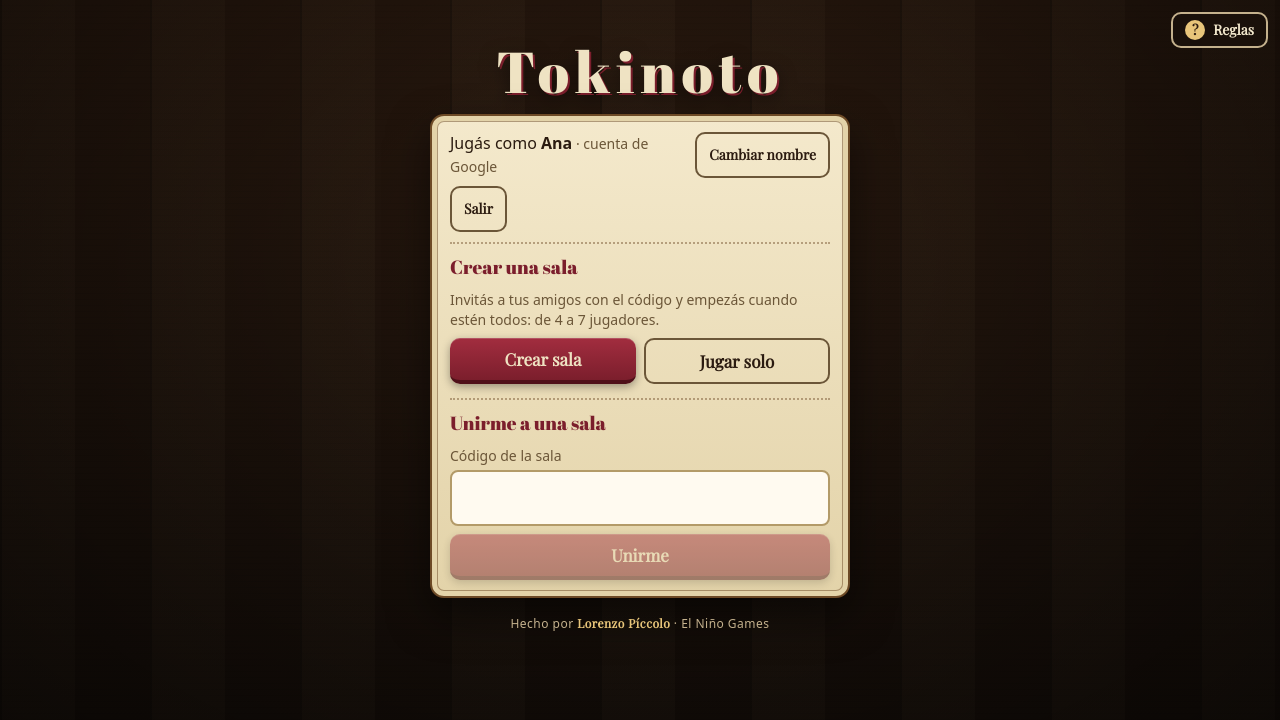
Test: pantallas iniciales › Inicio con cuenta muestra quién juega y permite cambiar el nombre
The width and height of the screenshot is (1280, 720).
Expected: the text "Jugás como Ana · cuenta de Google" is shown, [450, 132, 648, 176]
Expected: the button "Crear sala" is enabled, [450, 338, 636, 384]
What coordinates should you click on to do the following:
click the button "Cambiar nombre"
I would click on:
 (763, 155)
Its box is [695, 132, 830, 178].
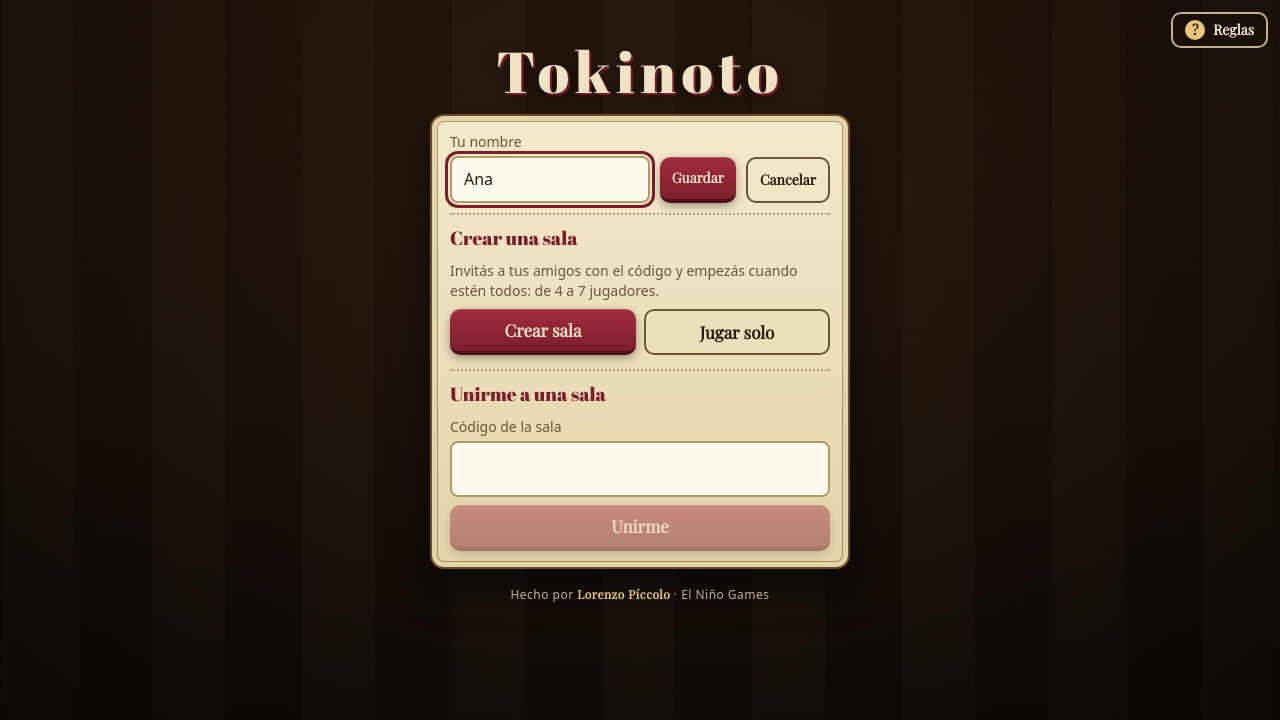
Expected: the field labelled "Tu nombre" holds "Ana", [450, 156, 650, 203]
What coordinates should you click on to do the following:
click the button "Cancelar"
I would click on:
 (788, 180)
Its box is [746, 157, 830, 203].
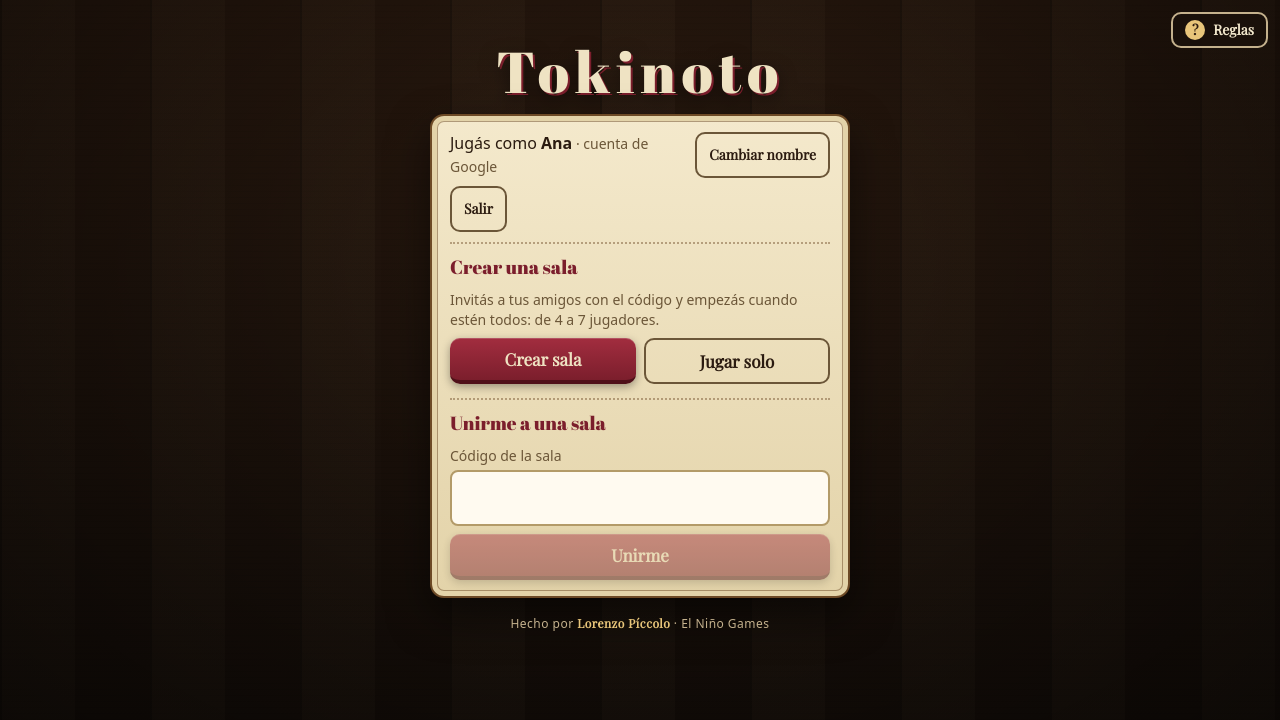
Expected: the text "Jugás como Ana · cuenta de Google" is shown, [450, 132, 648, 176]
